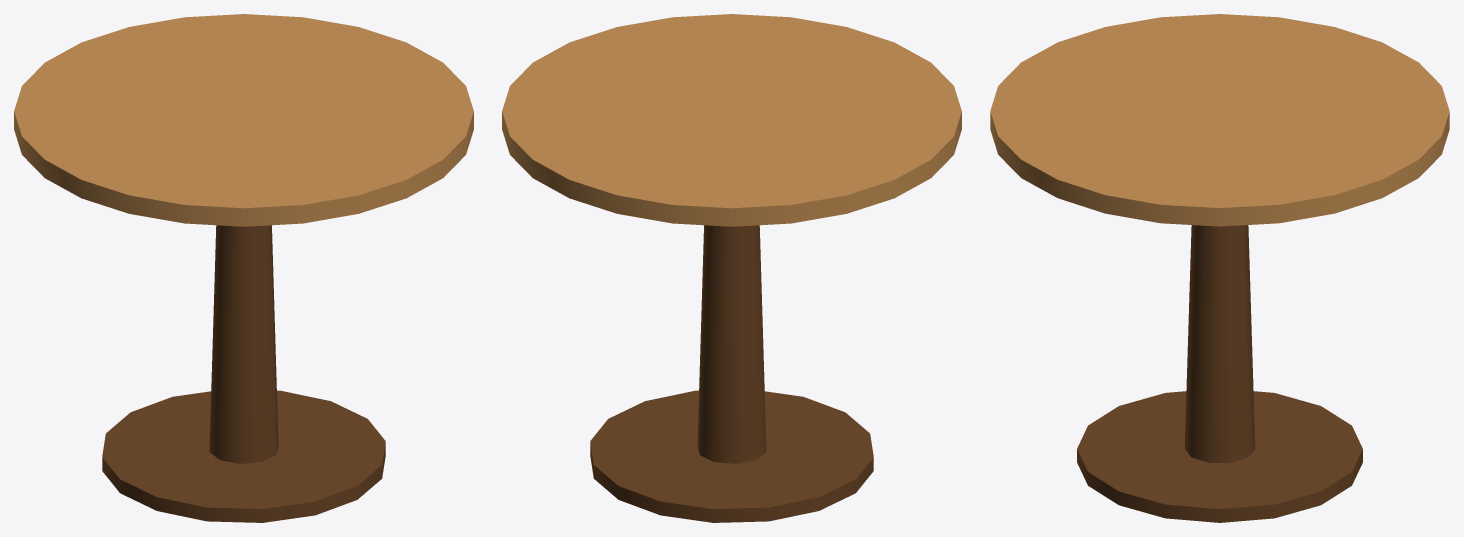
The model's file is table-round.glb.
The picture shows the model from 3 angles, left to right: view 1: azimuth 30°, elevation 25°; view 2: azimuth 150°, elevation 25°; view 3: azimuth 270°, elevation 25°; orthographic projection.
Parts seen in each view (by area): view 1: table-round; view 2: table-round; view 3: table-round.
Part boxes in pixels (bbox=[...]): table-round: bbox=[14, 14, 473, 522]; table-round: bbox=[502, 14, 961, 522]; table-round: bbox=[990, 14, 1449, 522].
Bounding box in the file's own units: 0.9 × 0.76 × 0.9.
